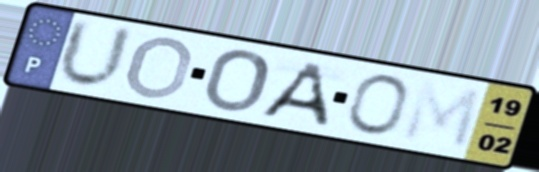A: (254, 59, 331, 130)
M: (398, 78, 485, 154)
O: (121, 34, 197, 101), (200, 48, 273, 114), (344, 71, 412, 138)
U: (53, 15, 138, 93)
